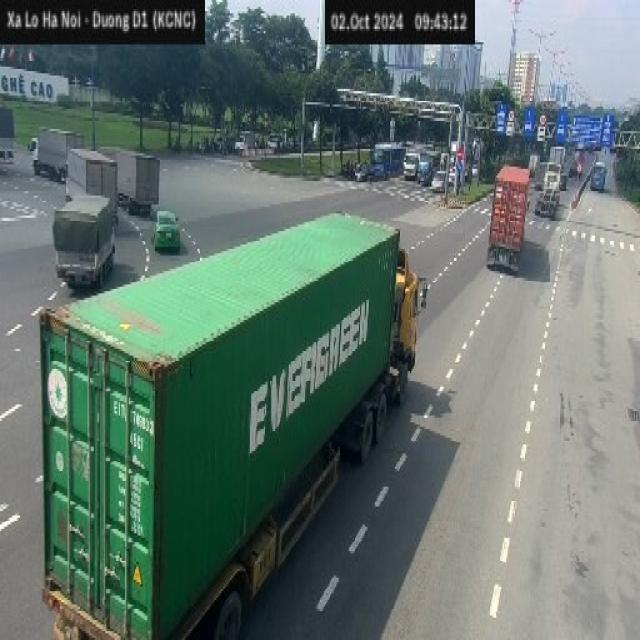car: (150, 209, 180, 253)
container-truck: (36, 207, 425, 636), (486, 164, 530, 274)
truck: (49, 192, 119, 284), (61, 145, 120, 206), (115, 141, 160, 218), (27, 126, 79, 181)
